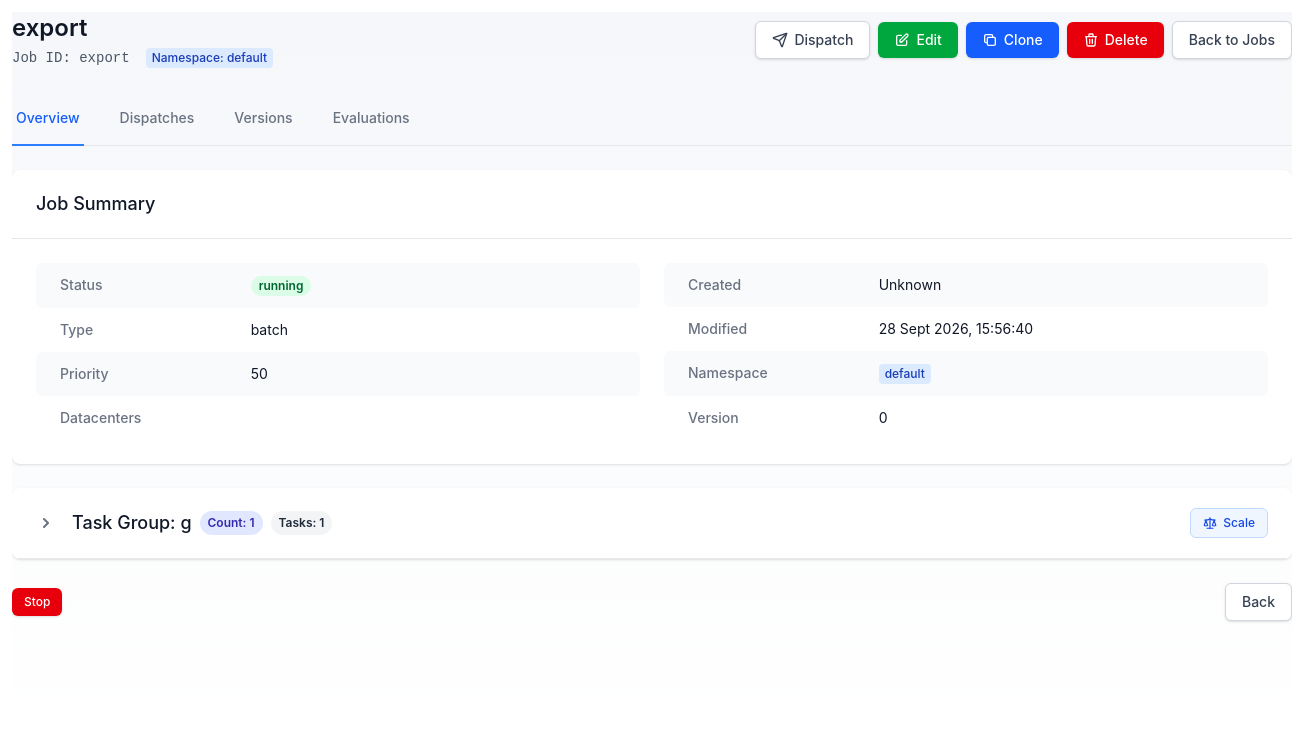
Test case: JobDetailPage for a parameterized job › a task group of a parameterized job has no View Logs button
Click the heading "Task Group: g". click: click(132, 523)
box: [72,509,192,537]
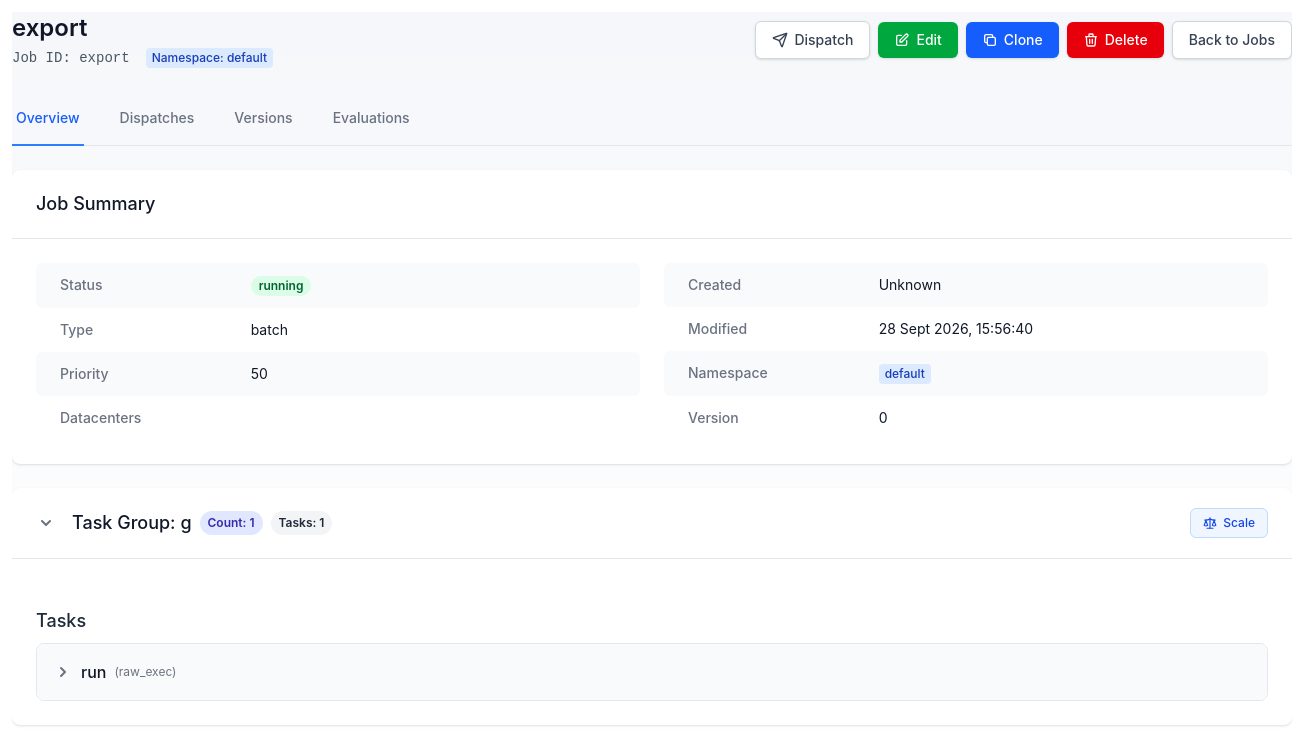
Now the heading "run" is shown, box [81,660,106,684]
